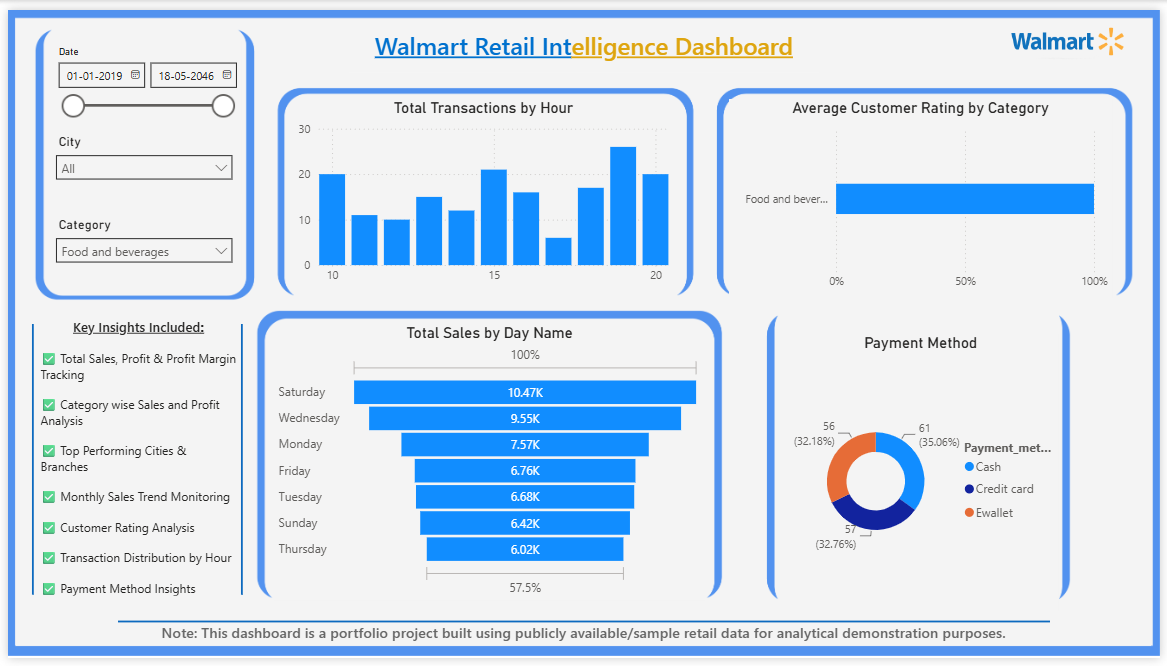

The page's visual inventory and layout, read from the dashboard file:
{"tool":"powerbi","page":{"name":"Customer Insights","canvas":[1280,720],"ordinal":1},"visuals":[{"type":"slicer","fields":{"Values":["Walmart Data Cleaning.Date"]},"box":[43,34.8,216.4,88],"z":0},{"type":"slicer","fields":{"Values":["Walmart Data Cleaning.Category"]},"box":[43,226,216.4,70],"z":1000},{"type":"slicer","fields":{"Values":["Walmart Data Cleaning.City"]},"box":[43,133.5,216.4,70.9],"z":2000},{"type":"donutChart","title":"Payment Method","fields":{"Category":["Walmart Data Cleaning.Payment_method"],"Y":["Walmart Data Cleaning.Total Transactions KPI"]},"box":[860.9,360,307,307.9],"z":3000},{"type":"hundredPercentStackedBarChart","title":"Average Customer Rating by Category","fields":{"Category":["Walmart Data Cleaning.Category"],"Y":["Walmart Data Cleaning.Avg Rating KPI"]},"box":[800.8,98.8,425.5,220.8],"z":4000},{"type":"clusteredColumnChart","title":"Total Transactions by Hour","fields":{"Category":["Walmart Data Cleaning.Hour"],"Y":["Walmart Data Cleaning.Total Transactions KPI"]},"box":[317.8,98.8,421,214.6],"z":5000},{"type":"funnel","title":"Total Sales by Day Name","fields":{"Category":["Walmart Data Cleaning.Day Name"],"Y":["Walmart Data Cleaning.Total Sales KPI"]},"box":[295,349,479,307],"z":6000},{"type":"image","box":[1078,15,202,39],"z":7000},{"type":"textbox","box":[379,15,522,54],"z":8000},{"type":"textbox","box":[31,337,228,319],"z":9000},{"type":"shape","box":[12.5,349.2,30.8,300.8],"z":10000},{"type":"shape","box":[244.2,349.2,30.8,300.8],"z":11000},{"type":"textbox","box":[9,675.1,1261.3,31.4],"z":12000},{"type":"shape","box":[122.2,674.4,1035.6,10],"z":13000}]}

Visuals, with their boxes in screenshot pixels (x1, y1, x2, y2), scaled from the page's 1280x720 canvas onto the 1167x666 screenshot:
slicer - Walmart Data Cleaning.Date: 39,32,236,114
slicer - Walmart Data Cleaning.Category: 39,209,236,274
slicer - Walmart Data Cleaning.City: 39,123,236,189
"Payment Method" donutChart: 785,333,1065,618
"Average Customer Rating by Category" hundredPercentStackedBarChart: 730,91,1118,296
"Total Transactions by Hour" clusteredColumnChart: 290,91,674,290
"Total Sales by Day Name" funnel: 269,323,706,607
image: 983,14,1166,50
textbox: 346,14,821,64
textbox: 28,312,236,607
shape: 11,323,39,601
shape: 223,323,251,601
textbox: 8,624,1158,654
shape: 111,624,1056,633
